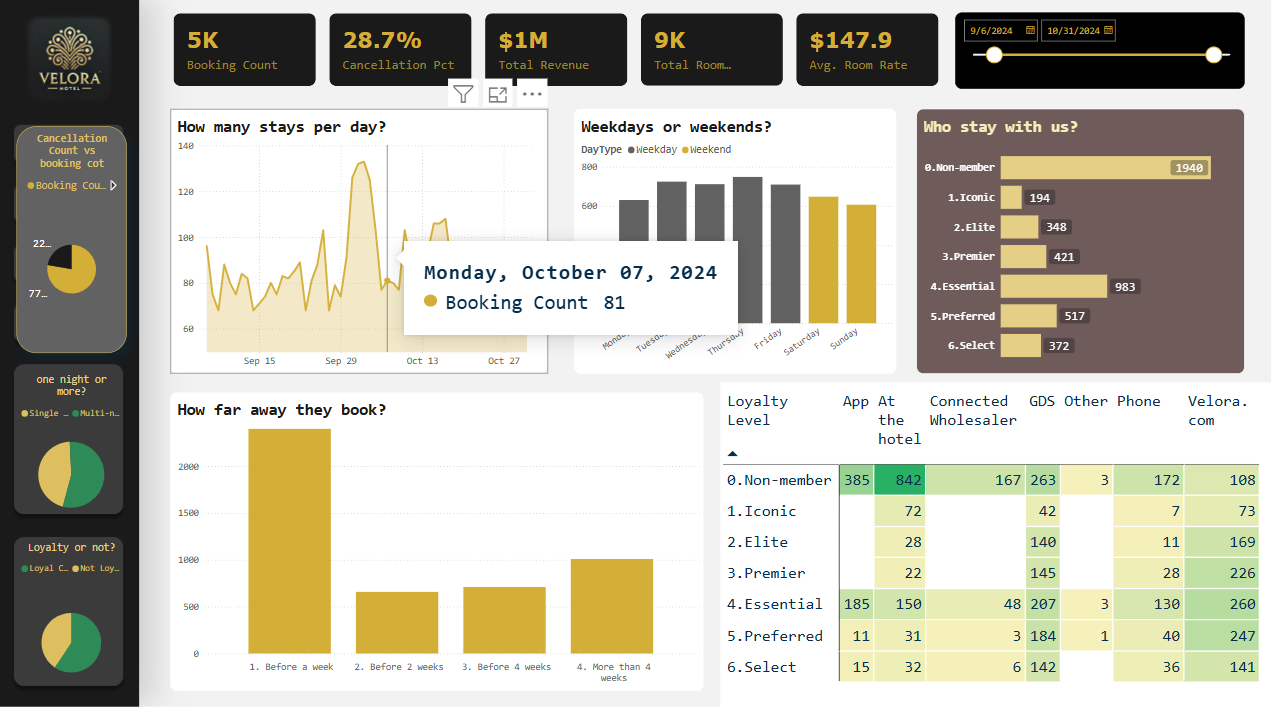

The page's visual inventory and layout, read from the dashboard file:
{"tool":"powerbi","page":{"name":"Bookings Report ","canvas":[1920,1080],"ordinal":0},"visuals":[{"type":"cardVisual","fields":{"Data":["bookings.Booking Count","bookings.Cancellation Pct","bookings.Total Revenue","bookings.Total Room Nights","bookings.Avg. Room Rate"]},"box":[258,22,1168,120],"z":0},{"type":"lineChart","title":"How many stays  per day?","fields":{"Category":["bookings.Stay Date"],"Y":["bookings.Booking Count"]},"box":[258.6,172.4,569,400],"z":1000},{"type":"slicer","fields":{"Values":["bookings.Stay Date"]},"box":[1443.3,26.7,436.7,115],"z":2000},{"type":"columnChart","title":"Weekdays or weekends?","fields":{"Category":["bookings.Day Name"],"Y":["bookings.Booking Count"],"Series":["bookings.DayType"]},"box":[868.3,171.7,486.7,400],"z":3000},{"type":"clusteredBarChart","title":" Who stay with us?","fields":{"Category":["bookings.Loyalty Level"],"Y":["bookings.Booking Count"]},"box":[1385,171.7,495,400],"z":4000},{"type":"clusteredColumnChart","title":"How far away they book?","fields":{"Category":["bookings.How far away bucket"],"Y":["bookings.Booking Count"]},"box":[258.3,600,805,450],"z":5000},{"type":"pivotTable","fields":{"Columns":["bookings.Booking Channel"],"Rows":["bookings.Loyalty Level"],"Values":["bookings.Booking Count"]},"box":[1087.8,585.4,832.6,494.4],"z":6000},{"type":"pieChart","title":"one night or more?","fields":{"Y":["bookings.Single night booking count","bookings.Multi-night booking count"]},"box":[25.7,571.6,166.1,235.4],"z":7000},{"type":"pieChart","title":"Loyalty or not?","fields":{"Y":["bookings.Loyal Customer Booking Count","bookings.Not Loyal Customer Booking Count"]},"box":[25.7,824.7,166.1,255.1],"z":8000},{"type":"pieChart","title":"Cancellation Count vs booking cot","fields":{"Y":["bookings.Booking Count","bookings.Cancellation Count"]},"box":[25.7,197.8,166.1,342.2],"z":9000}]}

Visuals, with their boxes in screenshot pixels (x1, y1, x2, y2), scaled from the page's 1920x1080 canvas onto the 1271x707 screenshot:
cardVisual - bookings.Booking Count x bookings.Cancellation Pct: l=171, t=14, r=944, b=93
"How many stays  per day?" lineChart: l=171, t=113, r=548, b=375
slicer - bookings.Stay Date: l=955, t=17, r=1245, b=93
"Weekdays or weekends?" columnChart: l=575, t=112, r=897, b=374
" Who stay with us?" clusteredBarChart: l=917, t=112, r=1245, b=374
"How far away they book?" clusteredColumnChart: l=171, t=393, r=704, b=687
pivotTable - bookings.Booking Channel x bookings.Loyalty Level: l=720, t=383, r=1270, b=706
"one night or more?" pieChart: l=17, t=374, r=127, b=528
"Loyalty or not?" pieChart: l=17, t=540, r=127, b=706
"Cancellation Count vs booking cot" pieChart: l=17, t=129, r=127, b=354
